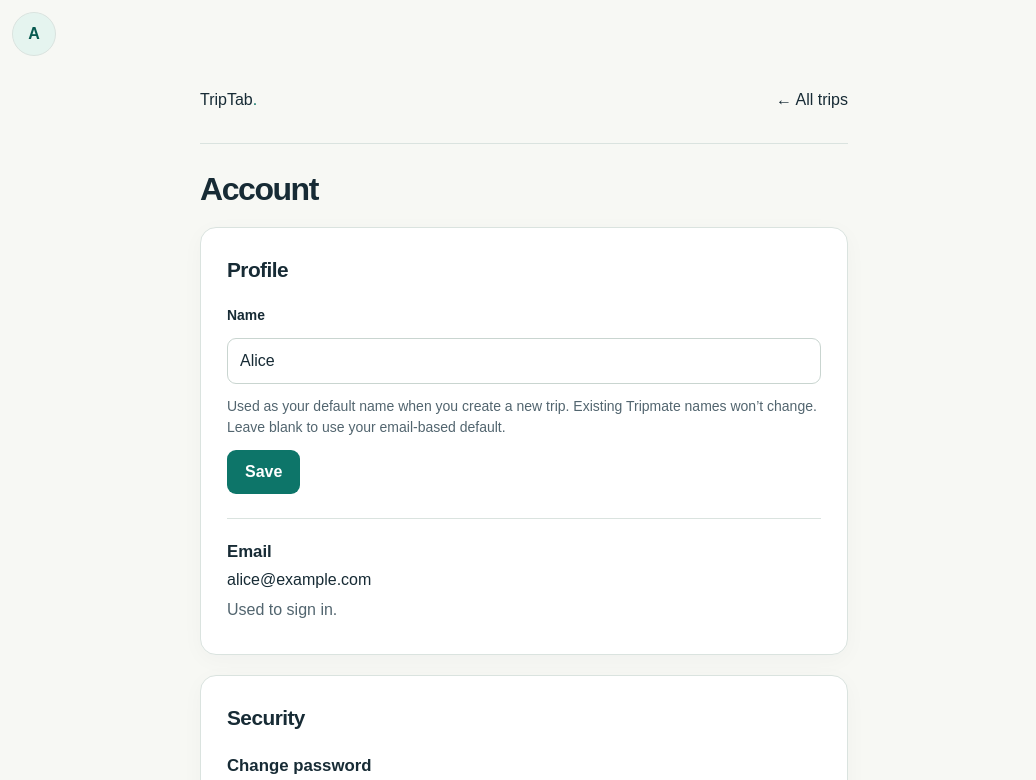
Test: saves Unicode name and updates menu identity without auth reload
Replace the text in the field labelled "Name" with " 王 Alice ": {"x": 524, "y": 361} [227,338,821,384]
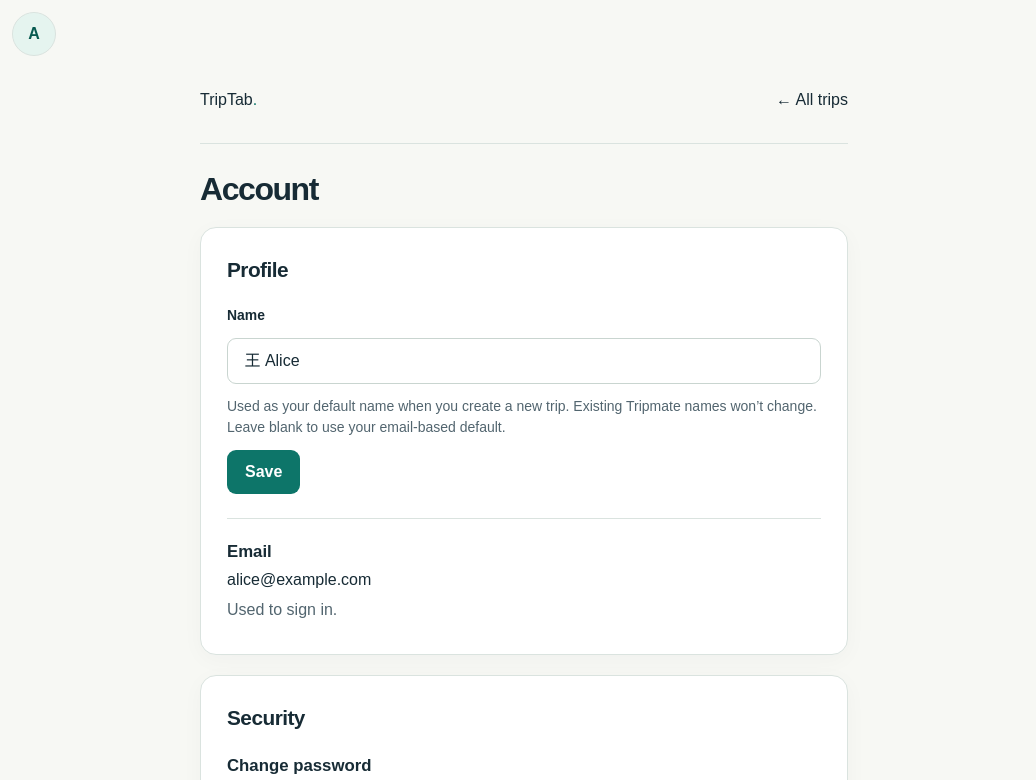
Submit the form labelled "Name", box [227,305,821,494]
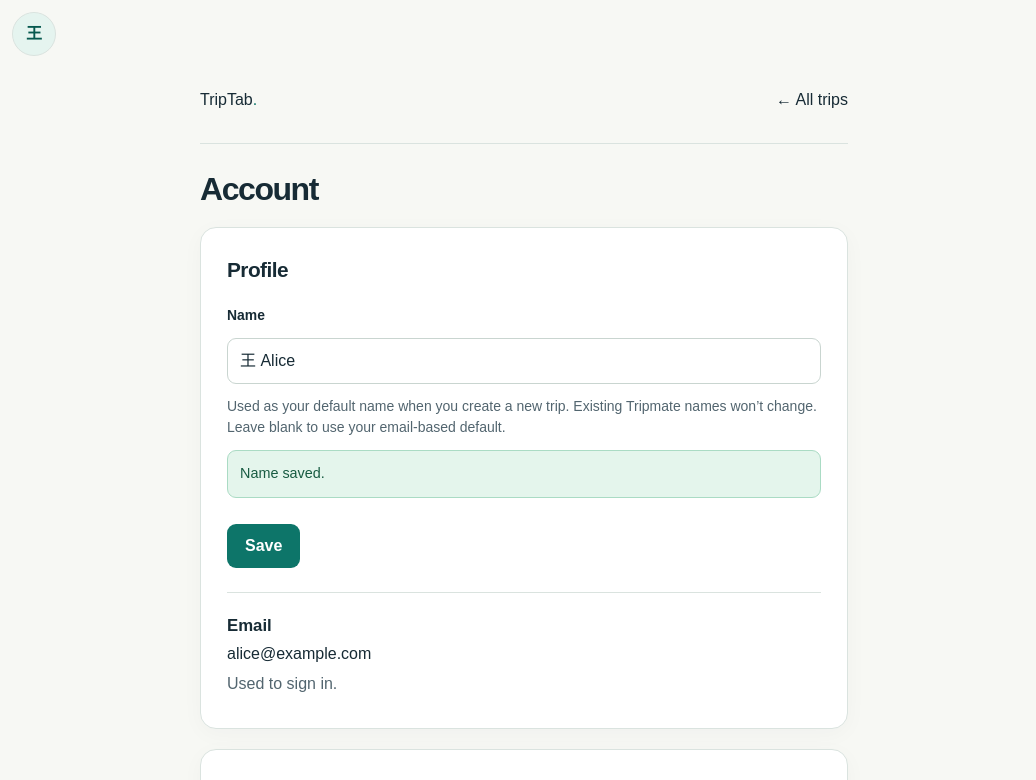
Result: the text "Name saved." is shown at [227,450,821,498]
Result: the button named "Account menu" reads "王"
Click the button named "Account menu": {"x": 34, "y": 34} [12,12,56,56]
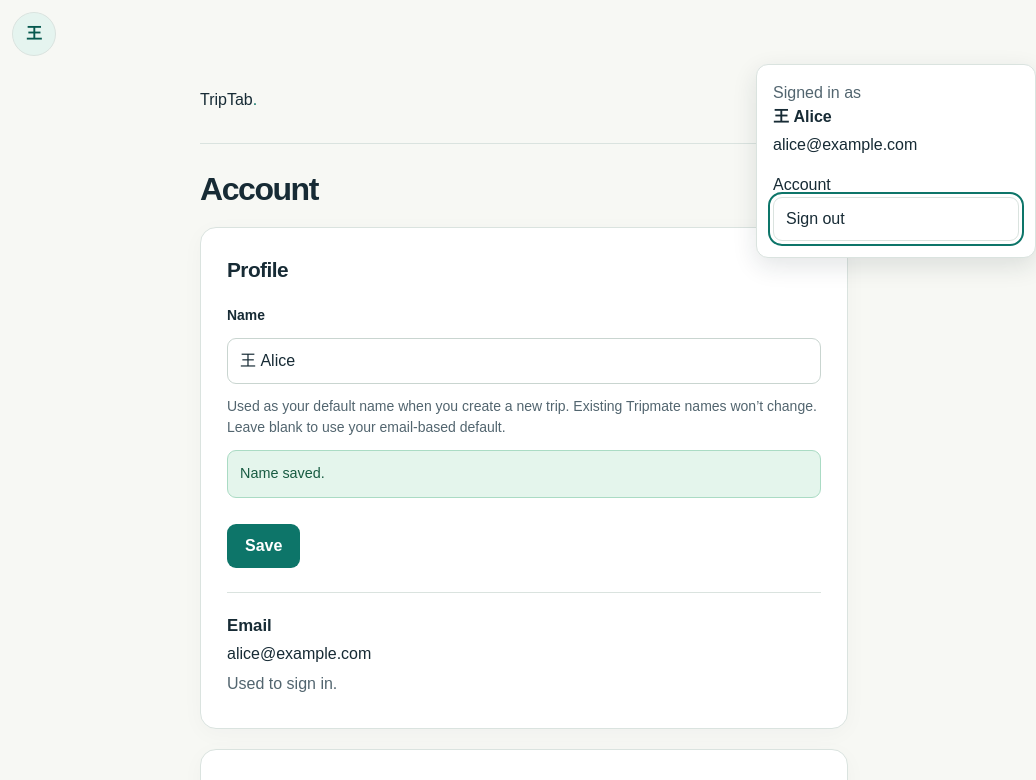
Result: the text "王 Alice" is shown at [773,108,832,125]
